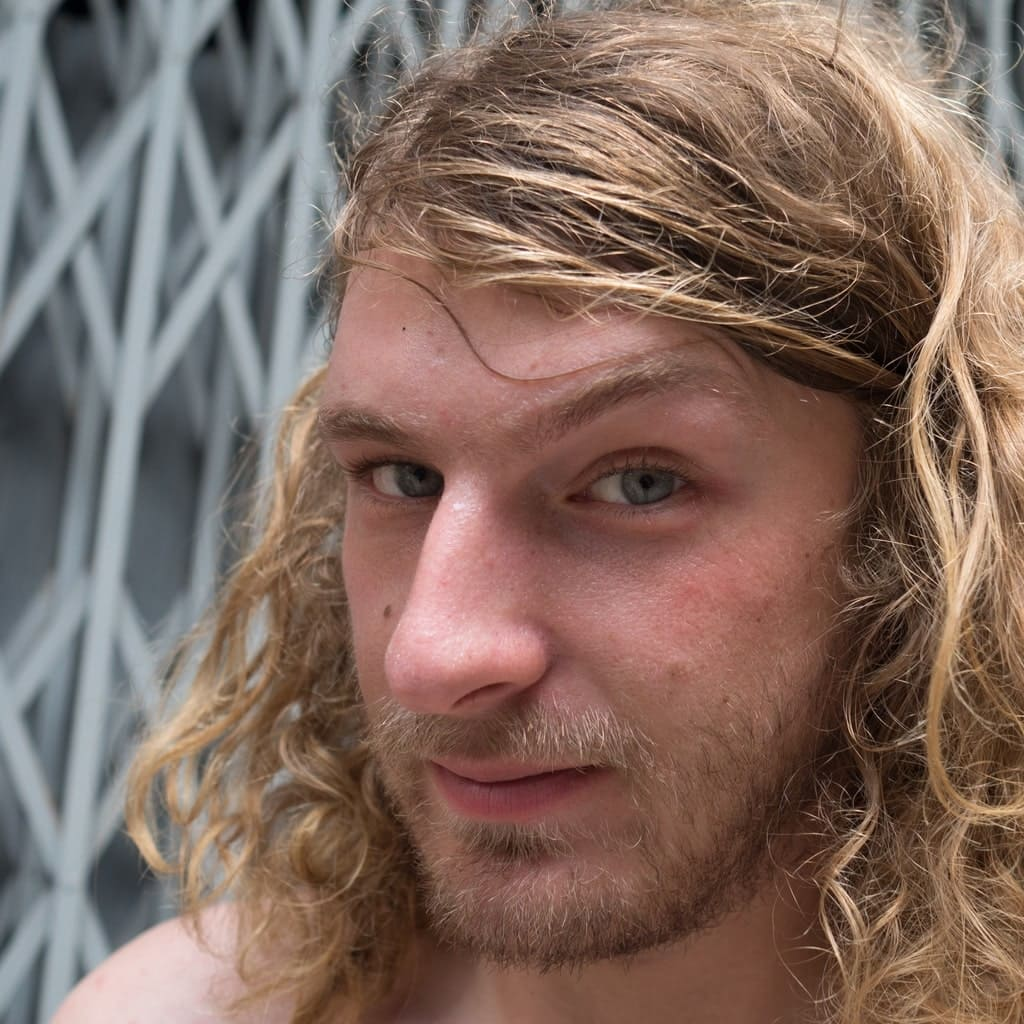without_mask: (334, 289, 756, 909)
